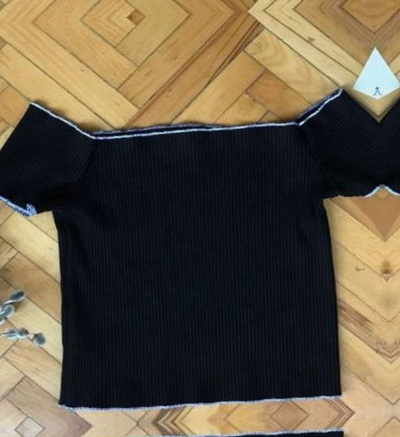Blouse: (0, 49, 391, 421), (378, 29, 400, 401), (0, 421, 400, 437), (397, 401, 400, 437)
